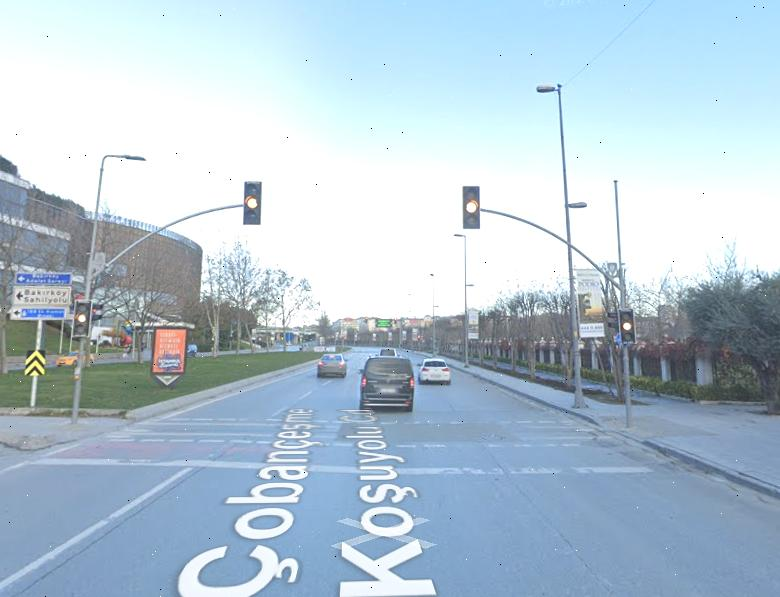yellowlight: (461, 186, 480, 230), (244, 180, 261, 225), (72, 298, 91, 336), (619, 307, 635, 345)
